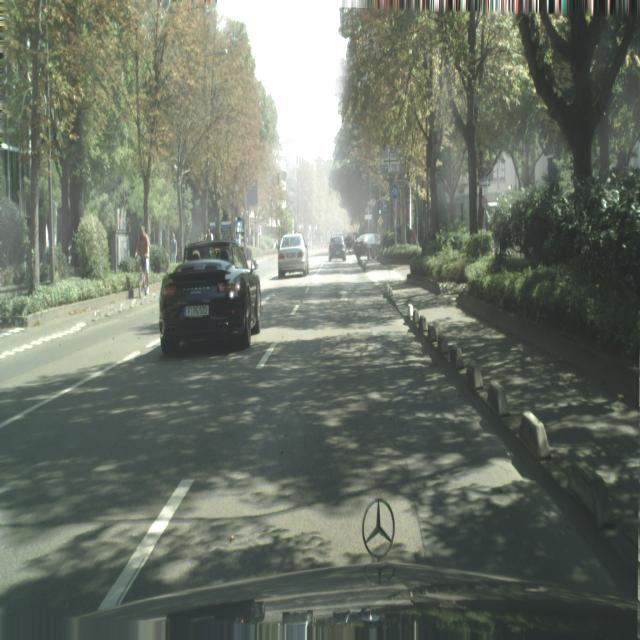car: (135, 224, 150, 296)
person: (170, 232, 177, 262)
truck: (158, 240, 262, 356), (278, 232, 309, 277), (353, 232, 381, 268), (328, 234, 346, 262)
